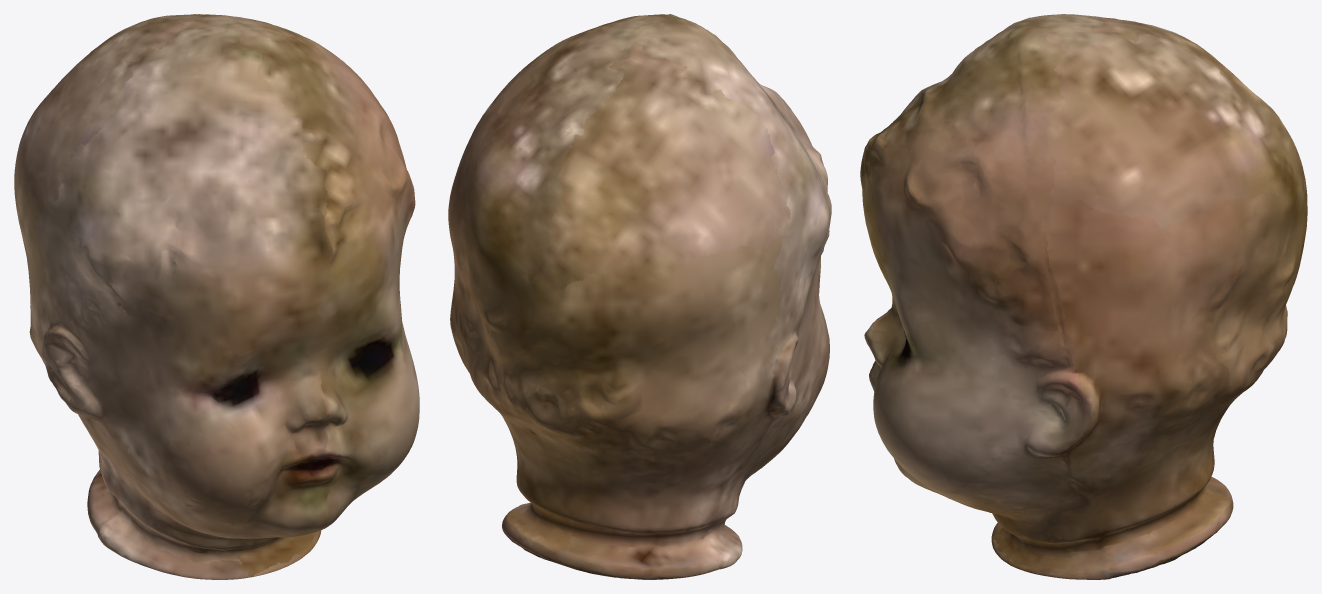
Rendered from dollhead.glb.
3 views of the same model, side by side, from view 1: azimuth 30°, elevation 25°; view 2: azimuth 150°, elevation 25°; view 3: azimuth 270°, elevation 25° (orthographic).
Visible parts, largest first — view 1: Object_3; view 2: Object_3; view 3: Object_3.
Boxes of the visible parts, x1,y1,x2,y2 form: Object_3: (14, 14, 419, 579); Object_3: (448, 14, 831, 579); Object_3: (860, 14, 1307, 579).
Size of the model in its own units: 1.85 by 2.73 by 2.16.
Materials: 1 (1 with a texture image).
